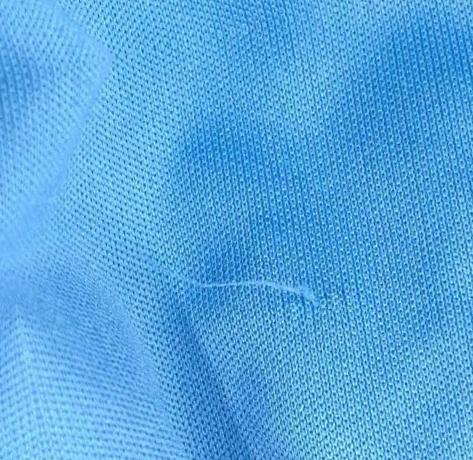snag: (167, 263, 336, 320)
